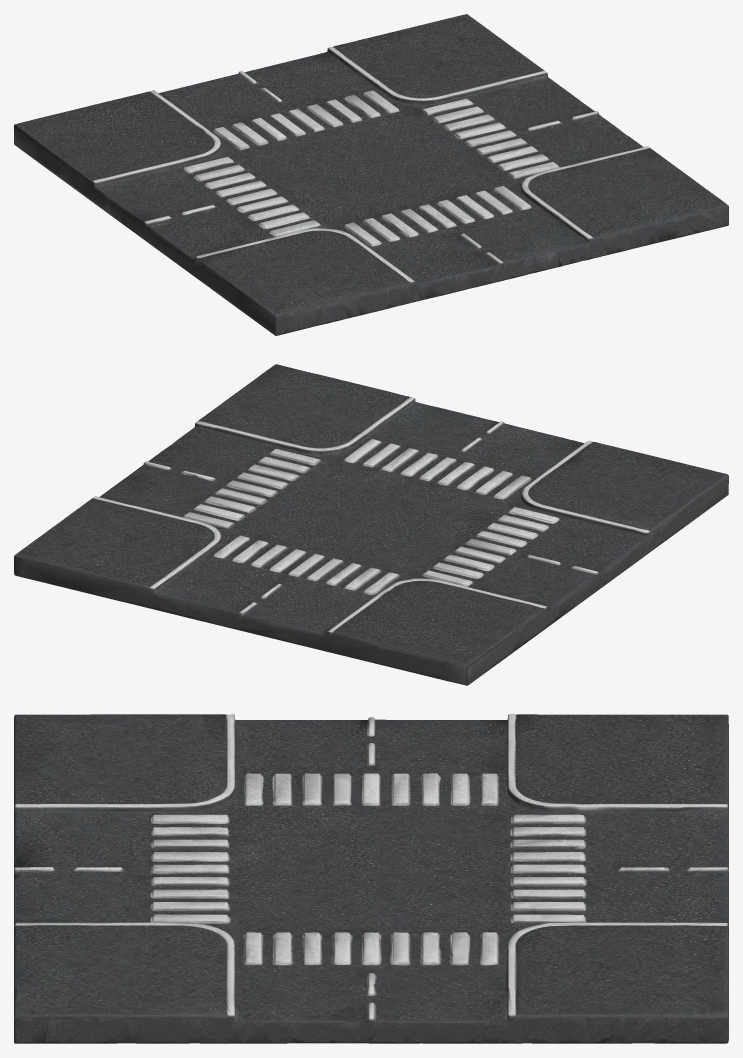
The model's file is roadx.glb.
3 views of the same model, one above another, from view 1: azimuth 30°, elevation 25°; view 2: azimuth 150°, elevation 25°; view 3: azimuth 270°, elevation 25° (orthographic). The views are drawn at different scales.
Parts seen in each view (by area): view 1: mesh_node; view 2: mesh_node; view 3: mesh_node.
Part boxes in pixels (left/top/right/bottom): mesh_node: left=14, top=14, right=728, bottom=335; mesh_node: left=14, top=364, right=728, bottom=685; mesh_node: left=14, top=714, right=728, bottom=1043.
Bounding box in the file's own units: 1.9 × 0.3402 × 1.9.
1 material, 1 textured.
